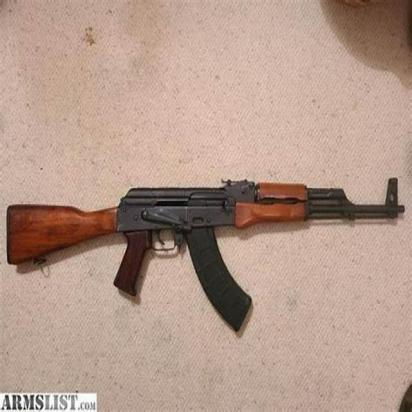Gun: (6, 177, 407, 332)
